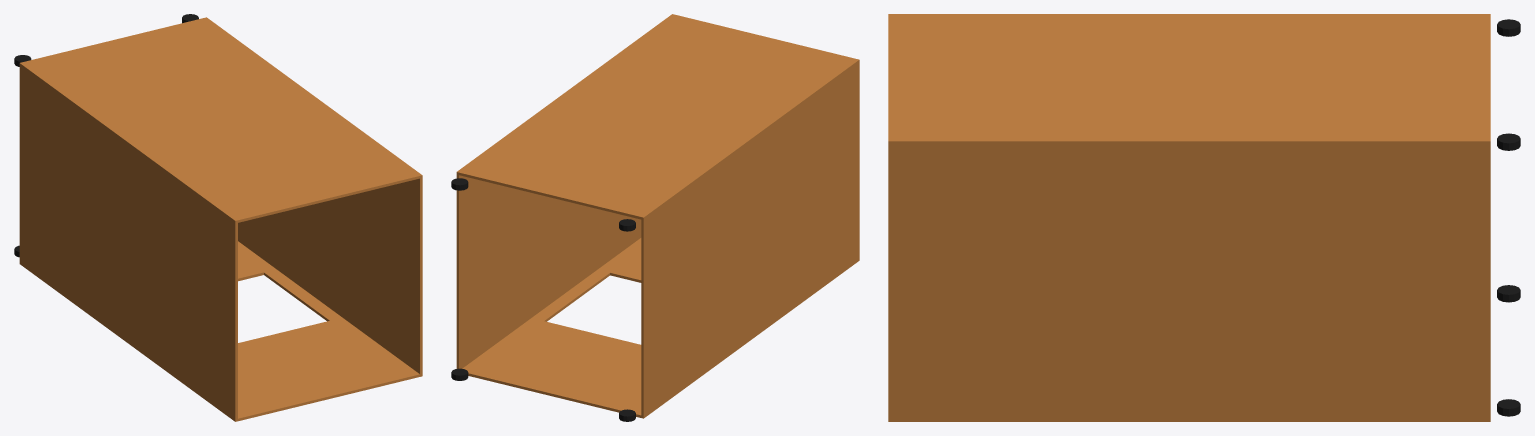
Rendered from nil_link_mesh.dae.
3 renders of one model, left to right at view 1: azimuth 30°, elevation 25°; view 2: azimuth 150°, elevation 25°; view 3: azimuth 270°, elevation 25°, orthographic. The views are drawn at different scales.
Visible parts, largest first — view 1: nil_link (×4); view 2: nil_link (×4); view 3: nil_link (×3).
Boxes of the visible parts, x1,y1,x2,y2 form: nil_link (×4): (19,17,422,421); nil_link (×4): (456,14,859,418); nil_link (×3): (888,14,1490,421).
Bounding box in the file's own units: 0.9 × 0.924 × 1.89.
